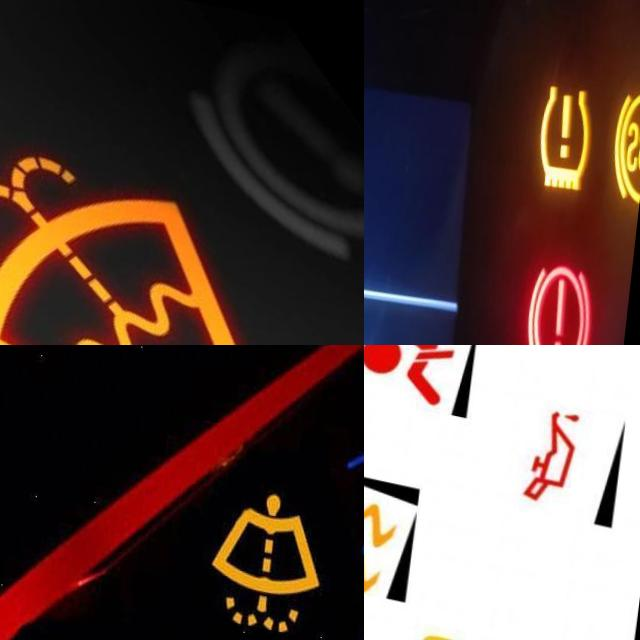Washer Fluid: (0, 136, 278, 345), (214, 474, 337, 627)
